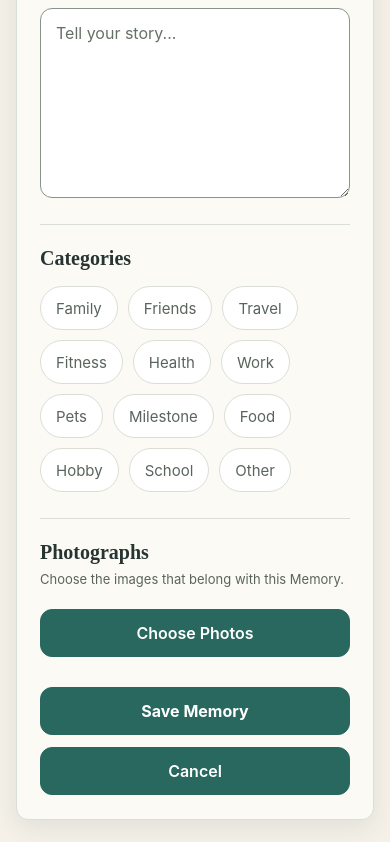
native permission denial is shown without changing Memory photos
(page scrolled)
Click the button "Choose Photos": (195, 633) [40,609,350,657]
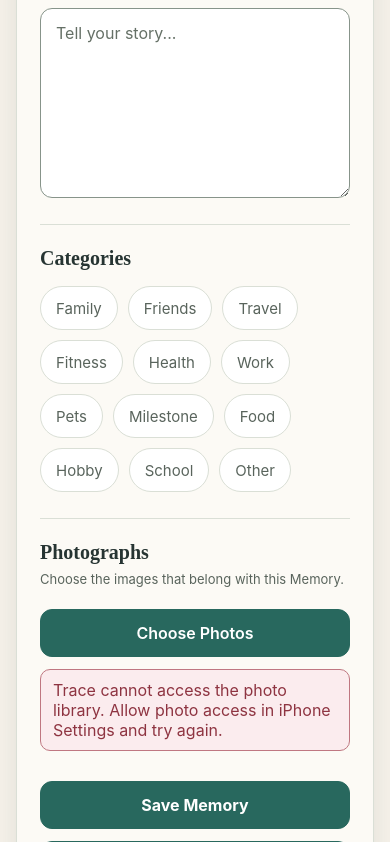
expect the message shows "Allow photo access in iPhone Settings": met, box [53,680,331,740]
